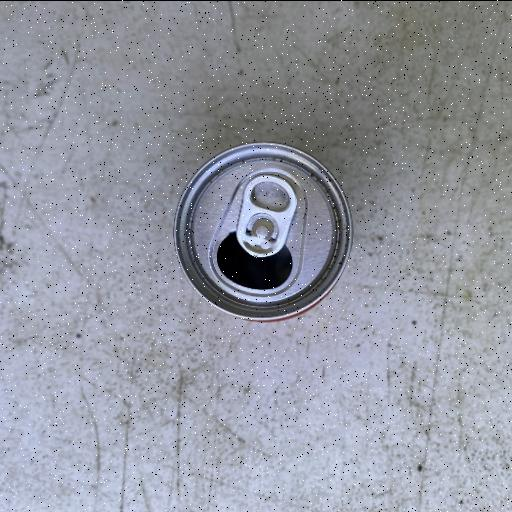Metal: (172, 140, 354, 324)
